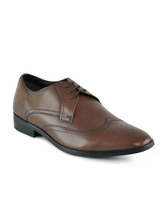shoes: (11, 70, 158, 157)
